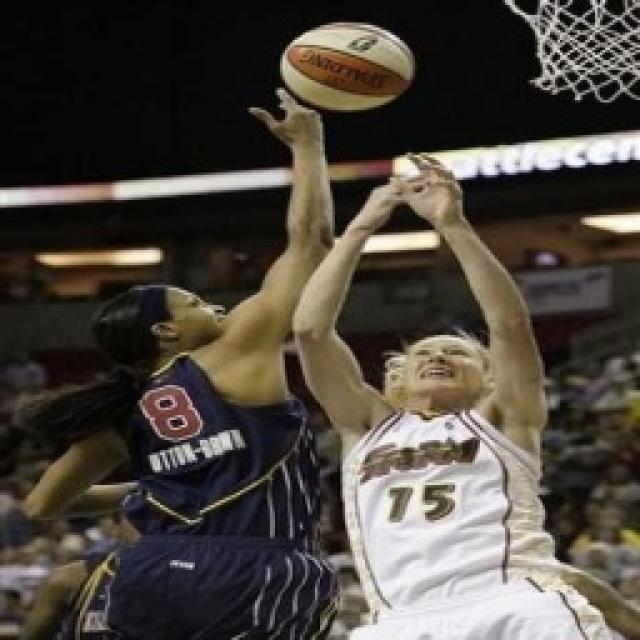rim: (274, 7, 424, 118)
